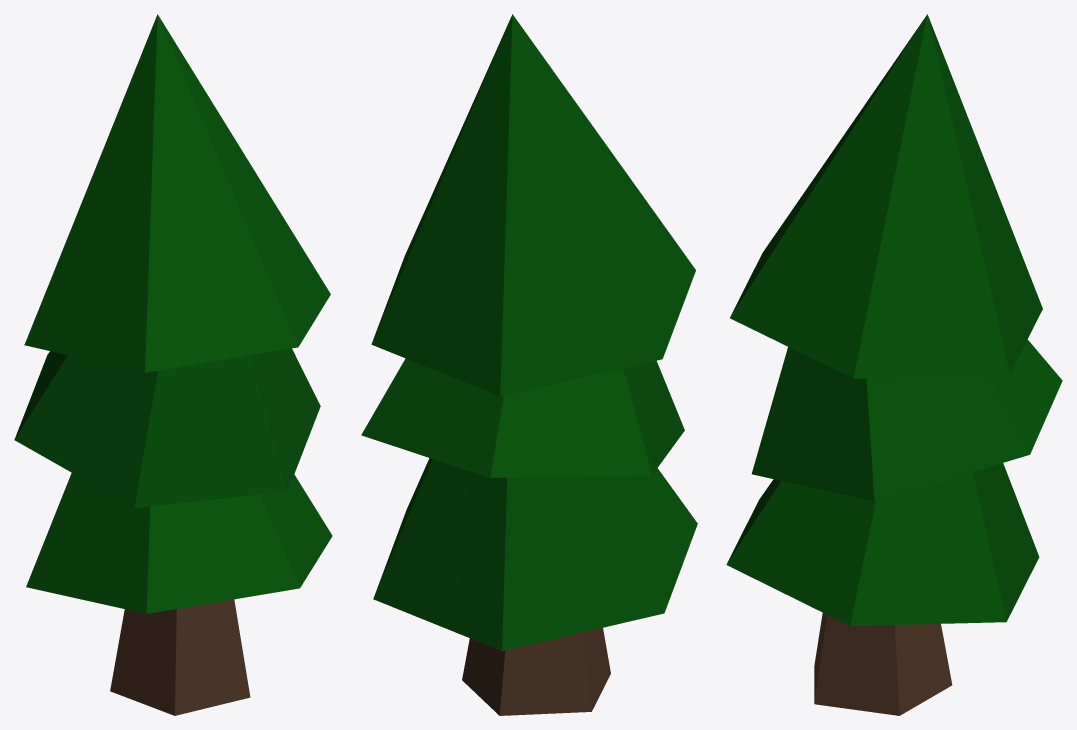
Rendered from Tree01.fbx.
3 views of the same model, side by side, from view 1: azimuth 30°, elevation 25°; view 2: azimuth 150°, elevation 25°; view 3: azimuth 270°, elevation 25° (orthographic). The views are drawn at different scales.
Parts seen in each view (by area): view 1: Tree01; view 2: Tree01; view 3: Tree01.
Boxes of the visible parts, x1,y1,x2,y2 form: Tree01: (14, 14, 332, 715); Tree01: (361, 14, 697, 715); Tree01: (726, 14, 1062, 715).
Size of the model in its own units: 259 by 588 by 267.
Materials: 1 (1 with a texture image).
